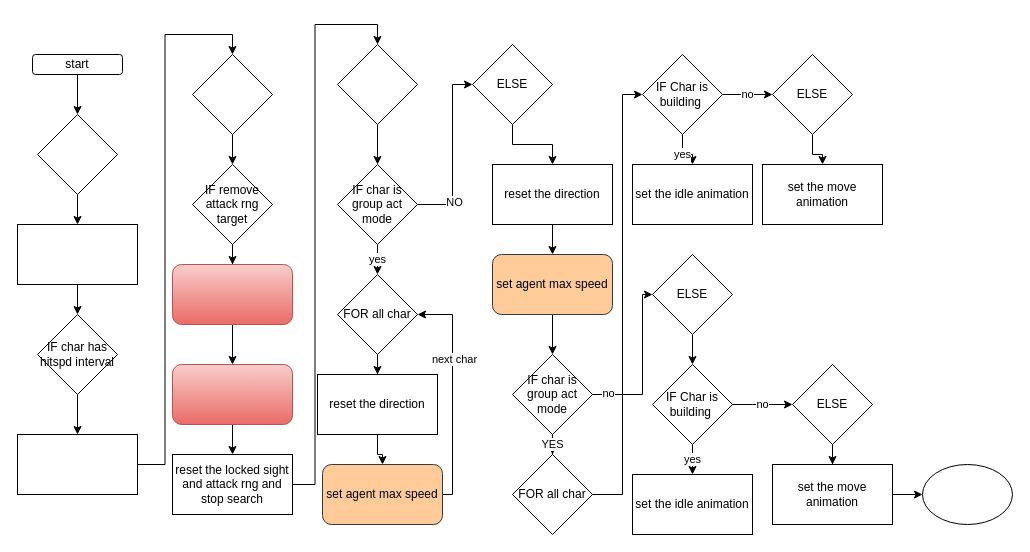
Some shapes in this 1030 by 552 pixel diagram are drawn without their labels. The box of each missing label's shape, as (x1, y1, x2, y2) in pixels:
call removeAttacking AgentId for card: (172, 264, 292, 324)
call removeAttacking AgentId for locked target: (172, 364, 292, 424)
clear the interval: (16, 434, 138, 494)
end: (922, 464, 1012, 524)
FOR locked target: (192, 54, 272, 134)
IF char movspd and not building: (336, 44, 418, 124)
IF char type item: (36, 114, 118, 194)
return: (16, 224, 138, 284)
